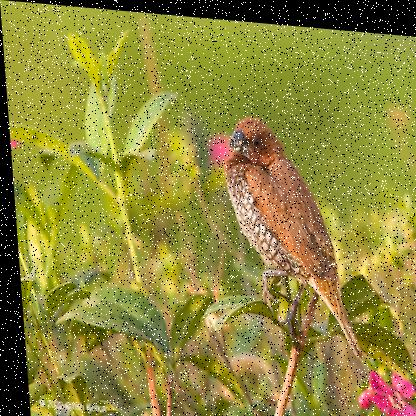Burung: (217, 110, 357, 357)
